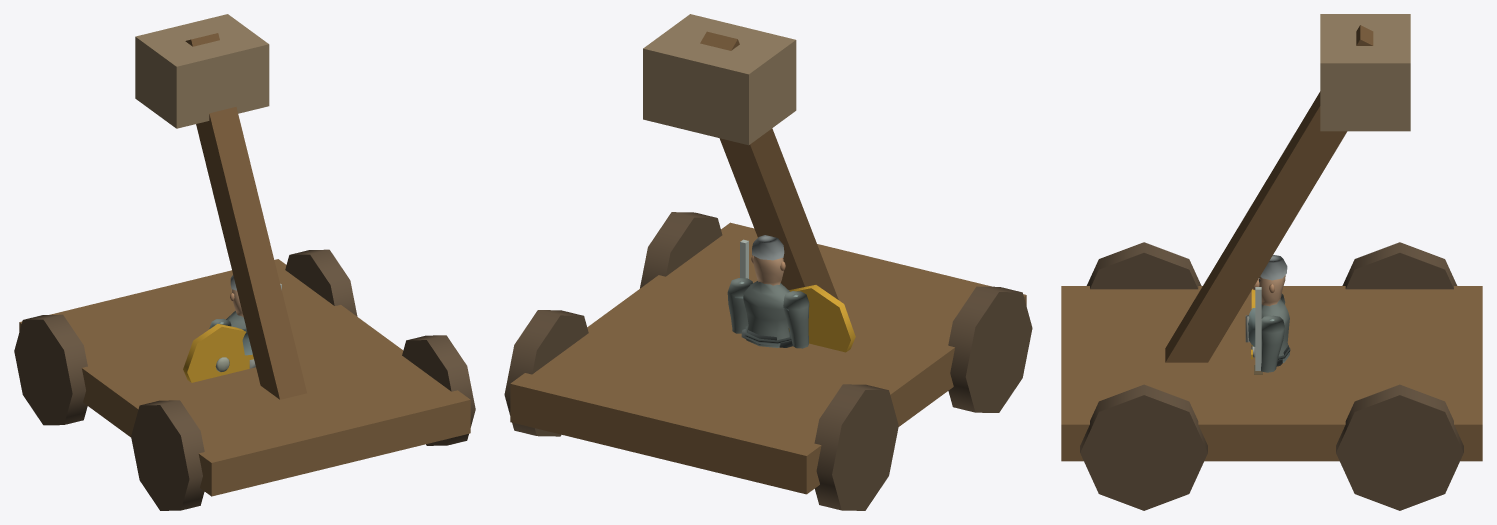
File: catapult_team3.glb
3 renders of one model, left to right at view 1: azimuth 30°, elevation 25°; view 2: azimuth 150°, elevation 25°; view 3: azimuth 270°, elevation 25°, orthographic. The views are drawn at different scales.
Visible parts, largest first — view 1: part_11, part_16, part_17, part_12, part_13, part_15, part_3, part_14; view 2: part_11, part_17, part_12, part_13, part_16, part_14, part_15, part_0, part_3, part_1, part_2, part_5; view 3: part_11, part_16, part_14, part_15, part_17, part_12, part_13, part_5, part_1, part_0, part_6.
Part boxes in pixels (box(x1,y1,x2,y2)): part_11: box(19, 259, 470, 496); part_16: box(185, 33, 306, 399); part_17: box(135, 14, 269, 128); part_12: box(14, 314, 87, 425); part_13: box(131, 400, 204, 510); part_15: box(402, 335, 475, 445); part_3: box(183, 324, 253, 382); part_14: box(285, 249, 357, 316); part_11: box(510, 222, 1026, 494); part_17: box(643, 14, 796, 145); part_12: box(814, 384, 898, 510); part_13: box(948, 286, 1032, 412); part_16: box(700, 31, 838, 299); part_14: box(504, 310, 588, 436); part_15: box(640, 212, 722, 288); part_0: box(743, 281, 791, 347); part_3: box(789, 285, 855, 352); part_1: box(751, 235, 785, 285); part_2: box(783, 291, 809, 348); part_5: box(727, 278, 752, 333); part_11: box(1061, 286, 1482, 461); part_16: box(1165, 25, 1373, 362); part_14: box(1336, 384, 1463, 510); part_15: box(1080, 384, 1207, 510); part_17: box(1320, 14, 1410, 131); part_12: box(1342, 242, 1457, 289); part_13: box(1086, 242, 1201, 289); part_5: box(1261, 315, 1285, 372); part_1: box(1252, 255, 1287, 306); part_0: box(1245, 299, 1290, 362); part_6: box(1255, 287, 1261, 370).
Bounding box in the file's own units: 2.32 × 2.85 × 2.7.
